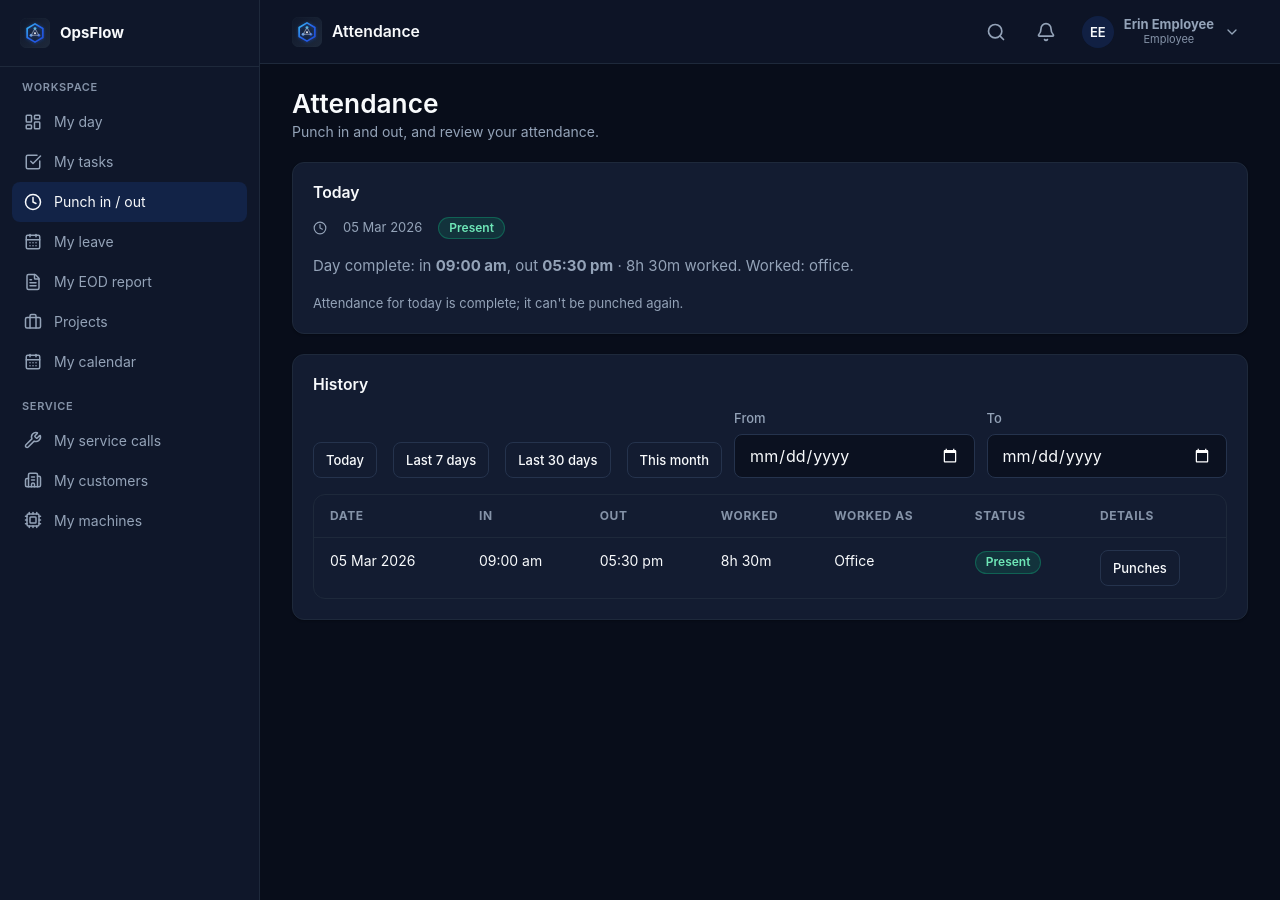
Test case: Attendance › lists attendance history in company time and shows the punches of a day
This screenshot has width=1280, height=900.
expect the text "09:00 am" is shown: met, box left=463, top=538, right=584, bottom=598
expect the text "8h 30m" is shown: met, box left=705, top=538, right=818, bottom=598
Click the button with aria-label "show punches on 05 mar 2026" at (1140, 568), box left=1100, top=550, right=1180, bottom=586
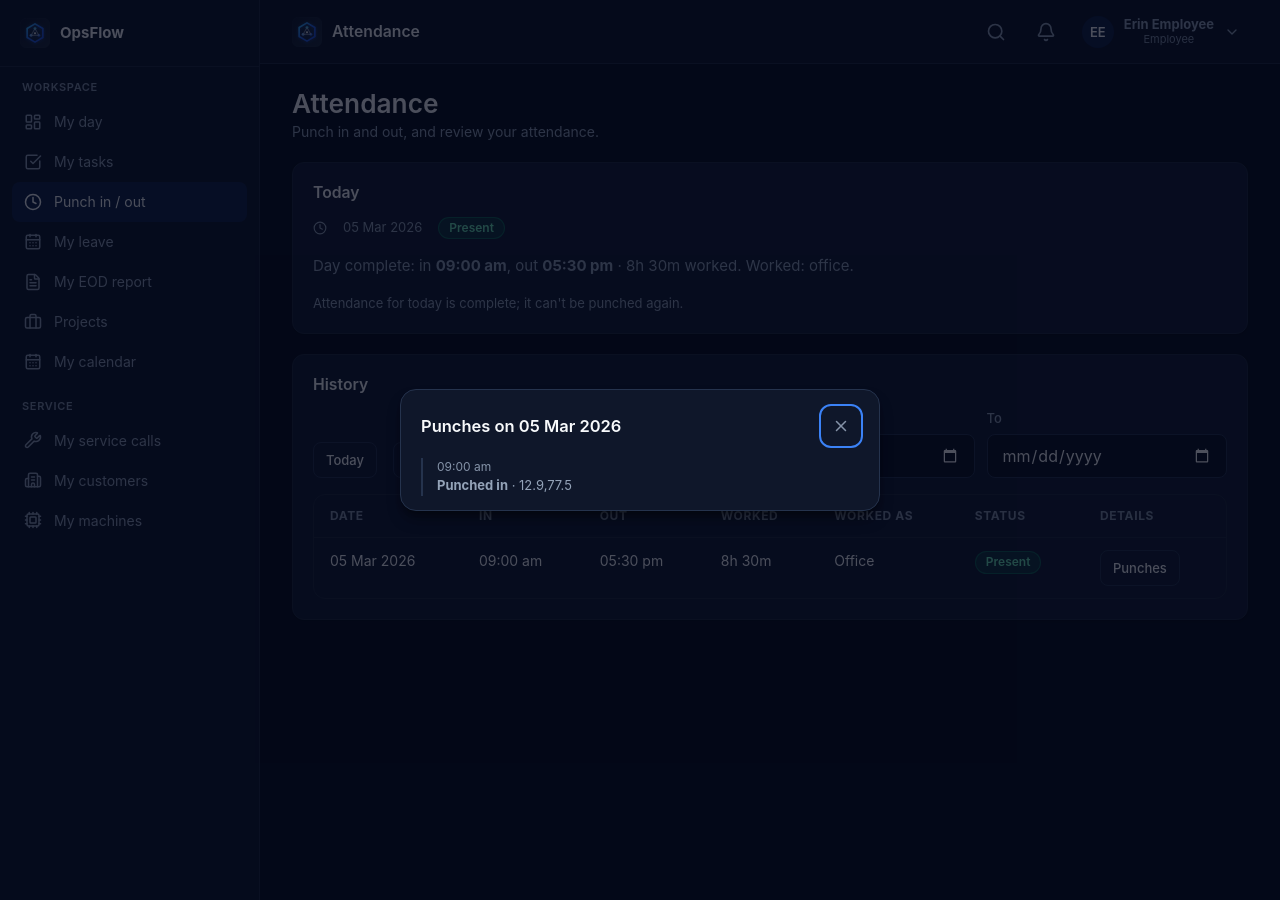
expect the text "Punched in" is shown: met, box left=437, top=477, right=508, bottom=493
expect the list item "09:00 am Punched in · 12.9,77.5" is shown: met, box left=421, top=458, right=859, bottom=496
